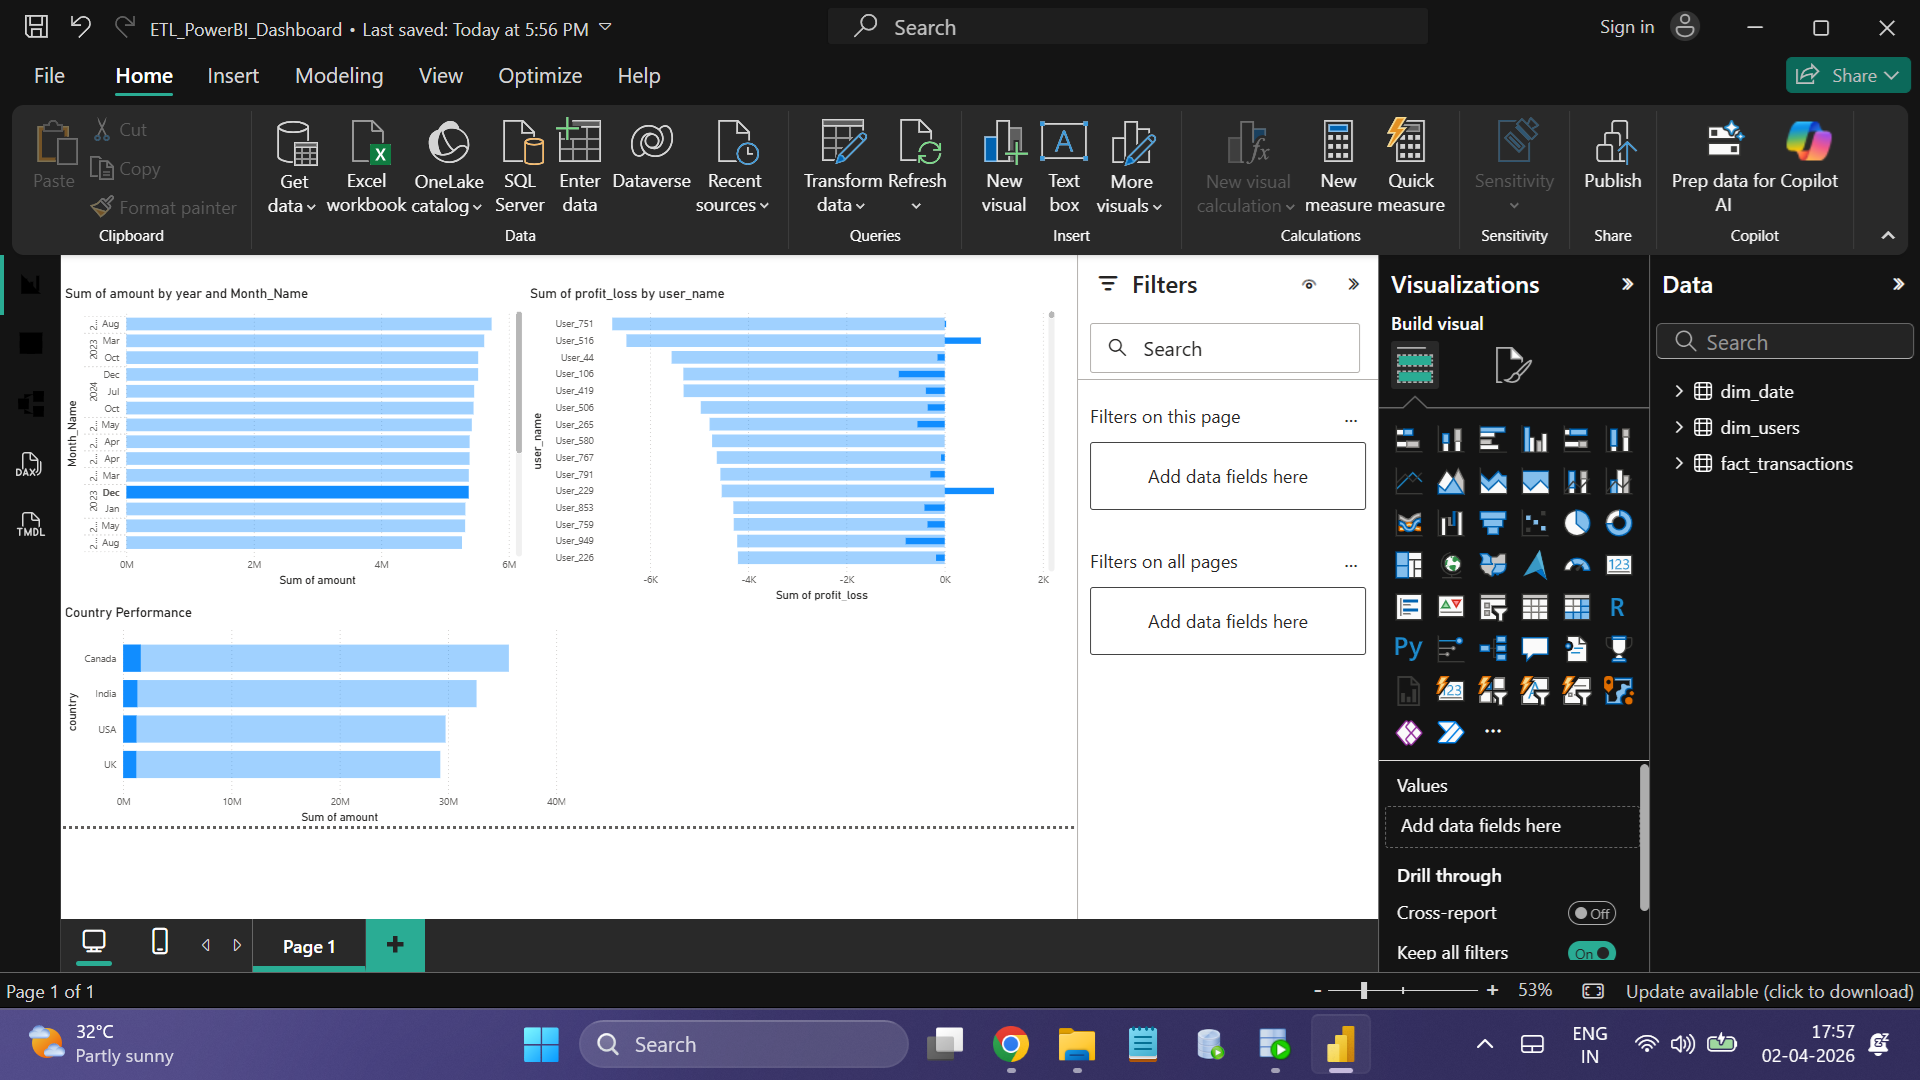

The dashboard page shown, as its layout file describes it:
{"tool":"powerbi","page":{"name":"Page 1","canvas":[1280,720],"ordinal":0},"visuals":[{"type":"clusteredBarChart","fields":{"Category":["dim_date.year","dim_date.Month_Name"],"Y":["Sum(fact_transactions.amount)"]},"box":[0,37.8,585.8,321.3],"z":0},{"type":"clusteredBarChart","title":"Country Performance","fields":{"Category":["dim_users.country"],"Y":["Sum(fact_transactions.amount)"]},"box":[0,440.3,640.6,279.7],"z":1},{"type":"clusteredBarChart","fields":{"Category":["dim_users.user_name"],"Y":["Sum(fact_transactions.profit_loss)"]},"box":[585.8,37.8,657.6,351.5],"z":2}]}

Visuals, with their boxes on the page's 1280x720 design canvas (x1, y1, x2, y2). These are canvas units, not pixel positions in the 1920x1080 screenshot, which may show the page scaled, cropped or inside an application window:
clusteredBarChart - dim_date.year x dim_date.Month_Name: locate(0, 38, 586, 359)
"Country Performance" clusteredBarChart: locate(0, 440, 641, 720)
clusteredBarChart - dim_users.user_name x Sum(fact_transactions.profit_loss): locate(586, 38, 1243, 389)
